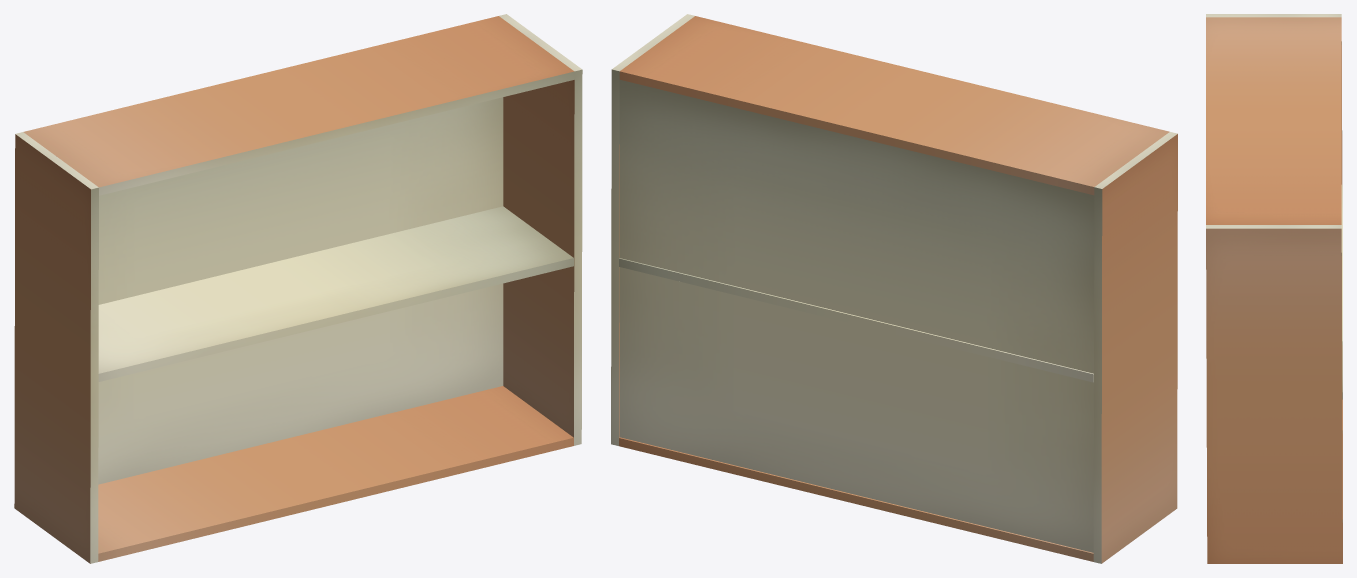
Rendered from cabin04ad.fbx.
3 renders of one model, left to right at view 1: azimuth 30°, elevation 25°; view 2: azimuth 150°, elevation 25°; view 3: azimuth 270°, elevation 25°, orthographic. The views are drawn at different scales.
Visible parts, largest first — view 1: cabin04ad; view 2: cabin04ad; view 3: cabin04ad.
Boxes of the visible parts, x1=… form: cabin04ad: x1=14, y1=14, x2=582, y2=563; cabin04ad: x1=611, y1=14, x2=1177, y2=563; cabin04ad: x1=1206, y1=14, x2=1342, y2=563.
Size of the model in its own units: 1.24 by 0.9041 by 0.3345.
